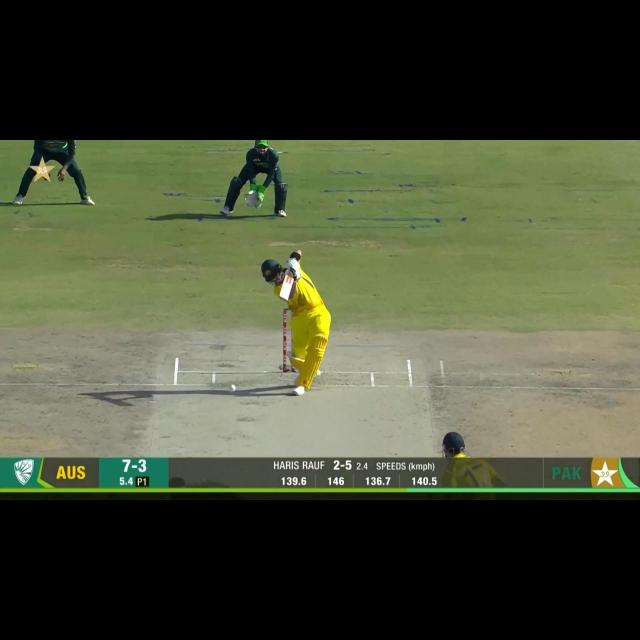bat: (276, 273, 294, 306)
toe: (276, 294, 289, 305)
